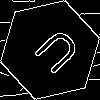U: (25, 25, 83, 83)
